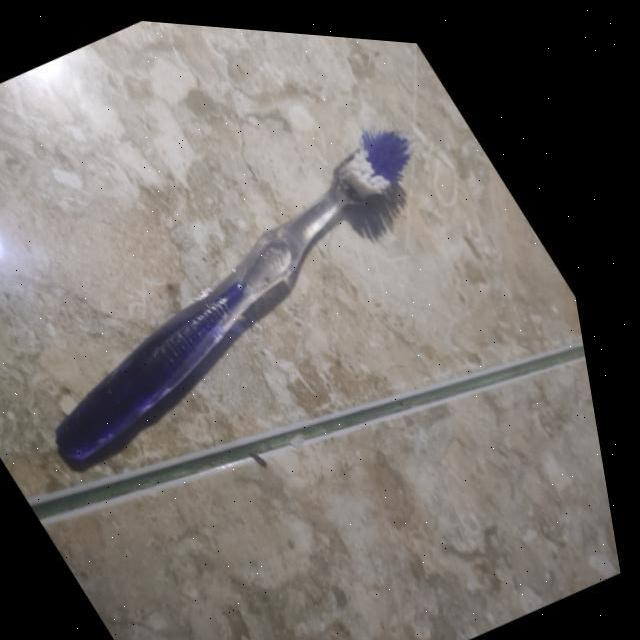toothbrush: (49, 98, 443, 490)
